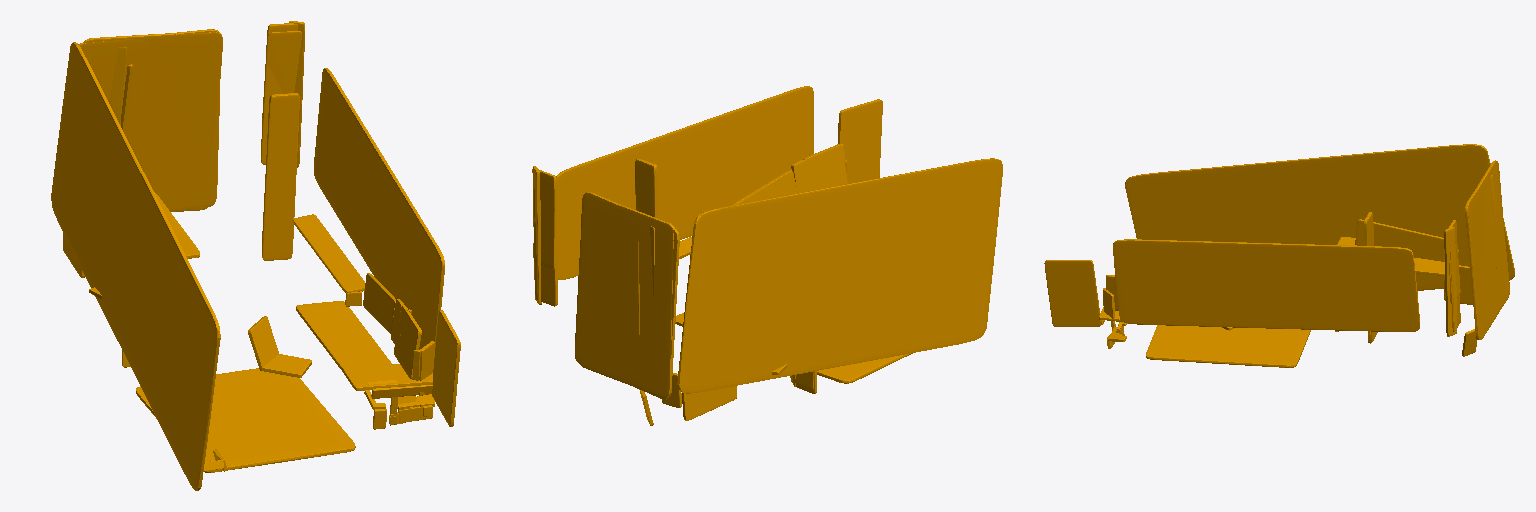
The robot description file, URDF, robot "scene":
<?xml version='1.0' encoding='utf-8'?>
<robot name="scene"><link name="scene_link"><visual><origin xyz="0.000000 0.000000 0.000000" rpy="0.000000 -0.000000 0.000000" /><geometry><mesh filename="part_000.obj" /></geometry></visual><collision><origin xyz="0.000000 0.000000 0.000000" rpy="0.000000 -0.000000 0.000000" /><geometry><mesh filename="part_000.obj" /></geometry></collision><visual><origin xyz="0.000000 0.000000 0.000000" rpy="0.000000 -0.000000 0.000000" /><geometry><mesh filename="part_001.obj" /></geometry></visual><collision><origin xyz="0.000000 0.000000 0.000000" rpy="0.000000 -0.000000 0.000000" /><geometry><mesh filename="part_001.obj" /></geometry></collision><visual><origin xyz="0.000000 0.000000 0.000000" rpy="0.000000 -0.000000 0.000000" /><geometry><mesh filename="part_002.obj" /></geometry></visual><collision><origin xyz="0.000000 0.000000 0.000000" rpy="0.000000 -0.000000 0.000000" /><geometry><mesh filename="part_002.obj" /></geometry></collision><visual><origin xyz="0.000000 0.000000 0.000000" rpy="0.000000 -0.000000 0.000000" /><geometry><mesh filename="part_003.obj" /></geometry></visual><collision><origin xyz="0.000000 0.000000 0.000000" rpy="0.000000 -0.000000 0.000000" /><geometry><mesh filename="part_003.obj" /></geometry></collision><visual><origin xyz="0.000000 0.000000 0.000000" rpy="0.000000 -0.000000 0.000000" /><geometry><mesh filename="part_004.obj" /></geometry></visual><collision><origin xyz="0.000000 0.000000 0.000000" rpy="0.000000 -0.000000 0.000000" /><geometry><mesh filename="part_004.obj" /></geometry></collision><visual><origin xyz="0.000000 0.000000 0.000000" rpy="0.000000 -0.000000 0.000000" /><geometry><mesh filename="part_005.obj" /></geometry></visual><collision><origin xyz="0.000000 0.000000 0.000000" rpy="0.000000 -0.000000 0.000000" /><geometry><mesh filename="part_005.obj" /></geometry></collision><visual><origin xyz="0.000000 0.000000 0.000000" rpy="0.000000 -0.000000 0.000000" /><geometry><mesh filename="part_006.obj" /></geometry></visual><collision><origin xyz="0.000000 0.000000 0.000000" rpy="0.000000 -0.000000 0.000000" /><geometry><mesh filename="part_006.obj" /></geometry></collision><visual><origin xyz="0.000000 0.000000 0.000000" rpy="0.000000 -0.000000 0.000000" /><geometry><mesh filename="part_007.obj" /></geometry></visual><collision><origin xyz="0.000000 0.000000 0.000000" rpy="0.000000 -0.000000 0.000000" /><geometry><mesh filename="part_007.obj" /></geometry></collision><visual><origin xyz="0.000000 0.000000 0.000000" rpy="0.000000 -0.000000 0.000000" /><geometry><mesh filename="part_008.obj" /></geometry></visual><collision><origin xyz="0.000000 0.000000 0.000000" rpy="0.000000 -0.000000 0.000000" /><geometry><mesh filename="part_008.obj" /></geometry></collision><visual><origin xyz="0.000000 0.000000 0.000000" rpy="0.000000 -0.000000 0.000000" /><geometry><mesh filename="part_009.obj" /></geometry></visual><collision><origin xyz="0.000000 0.000000 0.000000" rpy="0.000000 -0.000000 0.000000" /><geometry><mesh filename="part_009.obj" /></geometry></collision><visual><origin xyz="0.000000 0.000000 0.000000" rpy="0.000000 -0.000000 0.000000" /><geometry><mesh filename="part_010.obj" /></geometry></visual><collision><origin xyz="0.000000 0.000000 0.000000" rpy="0.000000 -0.000000 0.000000" /><geometry><mesh filename="part_010.obj" /></geometry></collision><visual><origin xyz="0.000000 0.000000 0.000000" rpy="0.000000 -0.000000 0.000000" /><geometry><mesh filename="part_011.obj" /></geometry></visual><collision><origin xyz="0.000000 0.000000 0.000000" rpy="0.000000 -0.000000 0.000000" /><geometry><mesh filename="part_011.obj" /></geometry></collision><visual><origin xyz="0.000000 0.000000 0.000000" rpy="0.000000 -0.000000 0.000000" /><geometry><mesh filename="part_012.obj" /></geometry></visual><collision><origin xyz="0.000000 0.000000 0.000000" rpy="0.000000 -0.000000 0.000000" /><geometry><mesh filename="part_012.obj" /></geometry></collision><visual><origin xyz="0.000000 0.000000 0.000000" rpy="0.000000 -0.000000 0.000000" /><geometry><mesh filename="part_013.obj" /></geometry></visual><collision><origin xyz="0.000000 0.000000 0.000000" rpy="0.000000 -0.000000 0.000000" /><geometry><mesh filename="part_013.obj" /></geometry></collision><visual><origin xyz="0.000000 0.000000 0.000000" rpy="0.000000 -0.000000 0.000000" /><geometry><mesh filename="part_014.obj" /></geometry></visual><collision><origin xyz="0.000000 0.000000 0.000000" rpy="0.000000 -0.000000 0.000000" /><geometry><mesh filename="part_014.obj" /></geometry></collision><visual><origin xyz="0.000000 0.000000 0.000000" rpy="0.000000 -0.000000 0.000000" /><geometry><mesh filename="part_015.obj" /></geometry></visual><collision><origin xyz="0.000000 0.000000 0.000000" rpy="0.000000 -0.000000 0.000000" /><geometry><mesh filename="part_015.obj" /></geometry></collision><visual><origin xyz="0.000000 0.000000 0.000000" rpy="0.000000 -0.000000 0.000000" /><geometry><mesh filename="part_016.obj" /></geometry></visual><collision><origin xyz="0.000000 0.000000 0.000000" rpy="0.000000 -0.000000 0.000000" /><geometry><mesh filename="part_016.obj" /></geometry></collision><visual><origin xyz="0.000000 0.000000 0.000000" rpy="0.000000 -0.000000 0.000000" /><geometry><mesh filename="part_017.obj" /></geometry></visual><collision><origin xyz="0.000000 0.000000 0.000000" rpy="0.000000 -0.000000 0.000000" /><geometry><mesh filename="part_017.obj" /></geometry></collision><visual><origin xyz="0.000000 0.000000 0.000000" rpy="0.000000 -0.000000 0.000000" /><geometry><mesh filename="part_018.obj" /></geometry></visual><collision><origin xyz="0.000000 0.000000 0.000000" rpy="0.000000 -0.000000 0.000000" /><geometry><mesh filename="part_018.obj" /></geometry></collision><visual><origin xyz="0.000000 0.000000 0.000000" rpy="0.000000 -0.000000 0.000000" /><geometry><mesh filename="part_019.obj" /></geometry></visual><collision><origin xyz="0.000000 0.000000 0.000000" rpy="0.000000 -0.000000 0.000000" /><geometry><mesh filename="part_019.obj" /></geometry></collision><visual><origin xyz="0.000000 0.000000 0.000000" rpy="0.000000 -0.000000 0.000000" /><geometry><mesh filename="part_020.obj" /></geometry></visual><collision><origin xyz="0.000000 0.000000 0.000000" rpy="0.000000 -0.000000 0.000000" /><geometry><mesh filename="part_020.obj" /></geometry></collision><visual><origin xyz="0.000000 0.000000 0.000000" rpy="0.000000 -0.000000 0.000000" /><geometry><mesh filename="part_021.obj" /></geometry></visual><collision><origin xyz="0.000000 0.000000 0.000000" rpy="0.000000 -0.000000 0.000000" /><geometry><mesh filename="part_021.obj" /></geometry></collision><visual><origin xyz="0.000000 0.000000 0.000000" rpy="0.000000 -0.000000 0.000000" /><geometry><mesh filename="part_022.obj" /></geometry></visual><collision><origin xyz="0.000000 0.000000 0.000000" rpy="0.000000 -0.000000 0.000000" /><geometry><mesh filename="part_022.obj" /></geometry></collision><visual><origin xyz="0.000000 0.000000 0.000000" rpy="0.000000 -0.000000 0.000000" /><geometry><mesh filename="part_023.obj" /></geometry></visual><collision><origin xyz="0.000000 0.000000 0.000000" rpy="0.000000 -0.000000 0.000000" /><geometry><mesh filename="part_023.obj" /></geometry></collision><visual><origin xyz="0.000000 0.000000 0.000000" rpy="0.000000 -0.000000 0.000000" /><geometry><mesh filename="part_024.obj" /></geometry></visual><collision><origin xyz="0.000000 0.000000 0.000000" rpy="0.000000 -0.000000 0.000000" /><geometry><mesh filename="part_024.obj" /></geometry></collision><visual><origin xyz="0.000000 0.000000 0.000000" rpy="0.000000 -0.000000 0.000000" /><geometry><mesh filename="part_025.obj" /></geometry></visual><collision><origin xyz="0.000000 0.000000 0.000000" rpy="0.000000 -0.000000 0.000000" /><geometry><mesh filename="part_025.obj" /></geometry></collision><visual><origin xyz="0.000000 0.000000 0.000000" rpy="0.000000 -0.000000 0.000000" /><geometry><mesh filename="part_026.obj" /></geometry></visual><collision><origin xyz="0.000000 0.000000 0.000000" rpy="0.000000 -0.000000 0.000000" /><geometry><mesh filename="part_026.obj" /></geometry></collision><visual><origin xyz="0.000000 0.000000 0.000000" rpy="0.000000 -0.000000 0.000000" /><geometry><mesh filename="part_027.obj" /></geometry></visual><collision><origin xyz="0.000000 0.000000 0.000000" rpy="0.000000 -0.000000 0.000000" /><geometry><mesh filename="part_027.obj" /></geometry></collision><visual><origin xyz="0.000000 0.000000 0.000000" rpy="0.000000 -0.000000 0.000000" /><geometry><mesh filename="part_028.obj" /></geometry></visual><collision><origin xyz="0.000000 0.000000 0.000000" rpy="0.000000 -0.000000 0.000000" /><geometry><mesh filename="part_028.obj" /></geometry></collision><visual><origin xyz="0.000000 0.000000 0.000000" rpy="0.000000 -0.000000 0.000000" /><geometry><mesh filename="part_029.obj" /></geometry></visual><collision><origin xyz="0.000000 0.000000 0.000000" rpy="0.000000 -0.000000 0.000000" /><geometry><mesh filename="part_029.obj" /></geometry></collision><visual><origin xyz="0.000000 0.000000 0.000000" rpy="0.000000 -0.000000 0.000000" /><geometry><mesh filename="part_030.obj" /></geometry></visual><collision><origin xyz="0.000000 0.000000 0.000000" rpy="0.000000 -0.000000 0.000000" /><geometry><mesh filename="part_030.obj" /></geometry></collision><visual><origin xyz="0.000000 0.000000 0.000000" rpy="0.000000 -0.000000 0.000000" /><geometry><mesh filename="part_031.obj" /></geometry></visual><collision><origin xyz="0.000000 0.000000 0.000000" rpy="0.000000 -0.000000 0.000000" /><geometry><mesh filename="part_031.obj" /></geometry></collision><visual><origin xyz="0.000000 0.000000 0.000000" rpy="0.000000 -0.000000 0.000000" /><geometry><mesh filename="part_032.obj" /></geometry></visual><collision><origin xyz="0.000000 0.000000 0.000000" rpy="0.000000 -0.000000 0.000000" /><geometry><mesh filename="part_032.obj" /></geometry></collision><visual><origin xyz="0.000000 0.000000 0.000000" rpy="0.000000 -0.000000 0.000000" /><geometry><mesh filename="part_033.obj" /></geometry></visual><collision><origin xyz="0.000000 0.000000 0.000000" rpy="0.000000 -0.000000 0.000000" /><geometry><mesh filename="part_033.obj" /></geometry></collision><visual><origin xyz="0.000000 0.000000 0.000000" rpy="0.000000 -0.000000 0.000000" /><geometry><mesh filename="part_034.obj" /></geometry></visual><collision><origin xyz="0.000000 0.000000 0.000000" rpy="0.000000 -0.000000 0.000000" /><geometry><mesh filename="part_034.obj" /></geometry></collision><visual><origin xyz="0.000000 0.000000 0.000000" rpy="0.000000 -0.000000 0.000000" /><geometry><mesh filename="part_035.obj" /></geometry></visual><collision><origin xyz="0.000000 0.000000 0.000000" rpy="0.000000 -0.000000 0.000000" /><geometry><mesh filename="part_035.obj" /></geometry></collision><visual><origin xyz="0.000000 0.000000 0.000000" rpy="0.000000 -0.000000 0.000000" /><geometry><mesh filename="part_036.obj" /></geometry></visual><collision><origin xyz="0.000000 0.000000 0.000000" rpy="0.000000 -0.000000 0.000000" /><geometry><mesh filename="part_036.obj" /></geometry></collision><visual><origin xyz="0.000000 0.000000 0.000000" rpy="0.000000 -0.000000 0.000000" /><geometry><mesh filename="part_037.obj" /></geometry></visual><collision><origin xyz="0.000000 0.000000 0.000000" rpy="0.000000 -0.000000 0.000000" /><geometry><mesh filename="part_037.obj" /></geometry></collision><visual><origin xyz="0.000000 0.000000 0.000000" rpy="0.000000 -0.000000 0.000000" /><geometry><mesh filename="part_038.obj" /></geometry></visual><collision><origin xyz="0.000000 0.000000 0.000000" rpy="0.000000 -0.000000 0.000000" /><geometry><mesh filename="part_038.obj" /></geometry></collision><visual><origin xyz="0.000000 0.000000 0.000000" rpy="0.000000 -0.000000 0.000000" /><geometry><mesh filename="part_039.obj" /></geometry></visual><collision><origin xyz="0.000000 0.000000 0.000000" rpy="0.000000 -0.000000 0.000000" /><geometry><mesh filename="part_039.obj" /></geometry></collision><visual><origin xyz="0.000000 0.000000 0.000000" rpy="0.000000 -0.000000 0.000000" /><geometry><mesh filename="part_040.obj" /></geometry></visual><collision><origin xyz="0.000000 0.000000 0.000000" rpy="0.000000 -0.000000 0.000000" /><geometry><mesh filename="part_040.obj" /></geometry></collision><visual><origin xyz="0.000000 0.000000 0.000000" rpy="0.000000 -0.000000 0.000000" /><geometry><mesh filename="part_041.obj" /></geometry></visual><collision><origin xyz="0.000000 0.000000 0.000000" rpy="0.000000 -0.000000 0.000000" /><geometry><mesh filename="part_041.obj" /></geometry></collision><visual><origin xyz="0.000000 0.000000 0.000000" rpy="0.000000 -0.000000 0.000000" /><geometry><mesh filename="part_042.obj" /></geometry></visual><collision><origin xyz="0.000000 0.000000 0.000000" rpy="0.000000 -0.000000 0.000000" /><geometry><mesh filename="part_042.obj" /></geometry></collision><visual><origin xyz="0.000000 0.000000 0.000000" rpy="0.000000 -0.000000 0.000000" /><geometry><mesh filename="part_043.obj" /></geometry></visual><collision><origin xyz="0.000000 0.000000 0.000000" rpy="0.000000 -0.000000 0.000000" /><geometry><mesh filename="part_043.obj" /></geometry></collision><visual><origin xyz="0.000000 0.000000 0.000000" rpy="0.000000 -0.000000 0.000000" /><geometry><mesh filename="part_044.obj" /></geometry></visual><collision><origin xyz="0.000000 0.000000 0.000000" rpy="0.000000 -0.000000 0.000000" /><geometry><mesh filename="part_044.obj" /></geometry></collision><visual><origin xyz="0.000000 0.000000 0.000000" rpy="0.000000 -0.000000 0.000000" /><geometry><mesh filename="part_045.obj" /></geometry></visual><collision><origin xyz="0.000000 0.000000 0.000000" rpy="0.000000 -0.000000 0.000000" /><geometry><mesh filename="part_045.obj" /></geometry></collision><visual><origin xyz="0.000000 0.000000 0.000000" rpy="0.000000 -0.000000 0.000000" /><geometry><mesh filename="part_046.obj" /></geometry></visual><collision><origin xyz="0.000000 0.000000 0.000000" rpy="0.000000 -0.000000 0.000000" /><geometry><mesh filename="part_046.obj" /></geometry></collision><visual><origin xyz="0.000000 0.000000 0.000000" rpy="0.000000 -0.000000 0.000000" /><geometry><mesh filename="part_047.obj" /></geometry></visual><collision><origin xyz="0.000000 0.000000 0.000000" rpy="0.000000 -0.000000 0.000000" /><geometry><mesh filename="part_047.obj" /></geometry></collision><visual><origin xyz="0.000000 0.000000 0.000000" rpy="0.000000 -0.000000 0.000000" /><geometry><mesh filename="part_048.obj" /></geometry></visual><collision><origin xyz="0.000000 0.000000 0.000000" rpy="0.000000 -0.000000 0.000000" /><geometry><mesh filename="part_048.obj" /></geometry></collision><visual><origin xyz="0.000000 0.000000 0.000000" rpy="0.000000 -0.000000 0.000000" /><geometry><mesh filename="part_049.obj" /></geometry></visual><collision><origin xyz="0.000000 0.000000 0.000000" rpy="0.000000 -0.000000 0.000000" /><geometry><mesh filename="part_049.obj" /></geometry></collision><visual><origin xyz="0.000000 0.000000 0.000000" rpy="0.000000 -0.000000 0.000000" /><geometry><mesh filename="part_050.obj" /></geometry></visual><collision><origin xyz="0.000000 0.000000 0.000000" rpy="0.000000 -0.000000 0.000000" /><geometry><mesh filename="part_050.obj" /></geometry></collision><visual><origin xyz="0.000000 0.000000 0.000000" rpy="0.000000 -0.000000 0.000000" /><geometry><mesh filename="part_051.obj" /></geometry></visual><collision><origin xyz="0.000000 0.000000 0.000000" rpy="0.000000 -0.000000 0.000000" /><geometry><mesh filename="part_051.obj" /></geometry></collision><visual><origin xyz="0.000000 0.000000 0.000000" rpy="0.000000 -0.000000 0.000000" /><geometry><mesh filename="part_052.obj" /></geometry></visual><collision><origin xyz="0.000000 0.000000 0.000000" rpy="0.000000 -0.000000 0.000000" /><geometry><mesh filename="part_052.obj" /></geometry></collision><visual><origin xyz="0.000000 0.000000 0.000000" rpy="0.000000 -0.000000 0.000000" /><geometry><mesh filename="part_053.obj" /></geometry></visual><collision><origin xyz="0.000000 0.000000 0.000000" rpy="0.000000 -0.000000 0.000000" /><geometry><mesh filename="part_053.obj" /></geometry></collision><visual><origin xyz="0.000000 0.000000 0.000000" rpy="0.000000 -0.000000 0.000000" /><geometry><mesh filename="part_054.obj" /></geometry></visual><collision><origin xyz="0.000000 0.000000 0.000000" rpy="0.000000 -0.000000 0.000000" /><geometry><mesh filename="part_054.obj" /></geometry></collision><visual><origin xyz="0.000000 0.000000 0.000000" rpy="0.000000 -0.000000 0.000000" /><geometry><mesh filename="part_055.obj" /></geometry></visual><collision><origin xyz="0.000000 0.000000 0.000000" rpy="0.000000 -0.000000 0.000000" /><geometry><mesh filename="part_055.obj" /></geometry></collision><visual><origin xyz="0.000000 0.000000 0.000000" rpy="0.000000 -0.000000 0.000000" /><geometry><mesh filename="part_056.obj" /></geometry></visual><collision><origin xyz="0.000000 0.000000 0.000000" rpy="0.000000 -0.000000 0.000000" /><geometry><mesh filename="part_056.obj" /></geometry></collision><visual><origin xyz="0.000000 0.000000 0.000000" rpy="0.000000 -0.000000 0.000000" /><geometry><mesh filename="part_057.obj" /></geometry></visual><collision><origin xyz="0.000000 0.000000 0.000000" rpy="0.000000 -0.000000 0.000000" /><geometry><mesh filename="part_057.obj" /></geometry></collision><visual><origin xyz="0.000000 0.000000 0.000000" rpy="0.000000 -0.000000 0.000000" /><geometry><mesh filename="part_058.obj" /></geometry></visual><collision><origin xyz="0.000000 0.000000 0.000000" rpy="0.000000 -0.000000 0.000000" /><geometry><mesh filename="part_058.obj" /></geometry></collision><visual><origin xyz="0.000000 0.000000 0.000000" rpy="0.000000 -0.000000 0.000000" /><geometry><mesh filename="part_059.obj" /></geometry></visual><collision><origin xyz="0.000000 0.000000 0.000000" rpy="0.000000 -0.000000 0.000000" /><geometry><mesh filename="part_059.obj" /></geometry></collision><visual><origin xyz="0.000000 0.000000 0.000000" rpy="0.000000 -0.000000 0.000000" /><geometry><mesh filename="part_060.obj" /></geometry></visual><collision><origin xyz="0.000000 0.000000 0.000000" rpy="0.000000 -0.000000 0.000000" /><geometry><mesh filename="part_060.obj" /></geometry></collision></link></robot>

--- Facts derived from the render (not from the file) ---
3 views of the same robot in one strip: view 1: azimuth 30°, elevation 25°; view 2: azimuth 150°, elevation 25°; view 3: azimuth 270°, elevation 25° (orthographic).
Model scene with 1 links and 0 joints (none), rooted at scene_link, posed every joint at zero.
Visible links, largest first — view 1: scene_link; view 2: scene_link; view 3: scene_link.
Link boxes in pixels (box(x1,y1,x2,y2)): scene_link: box(51, 21, 460, 490); scene_link: box(532, 86, 1002, 425); scene_link: box(1044, 144, 1514, 367).
Size in the robot's own frame: 3.48 by 6.28 by 2.96 metres.
61 mesh visuals loaded from 61 distinct referenced files (61 OBJ).